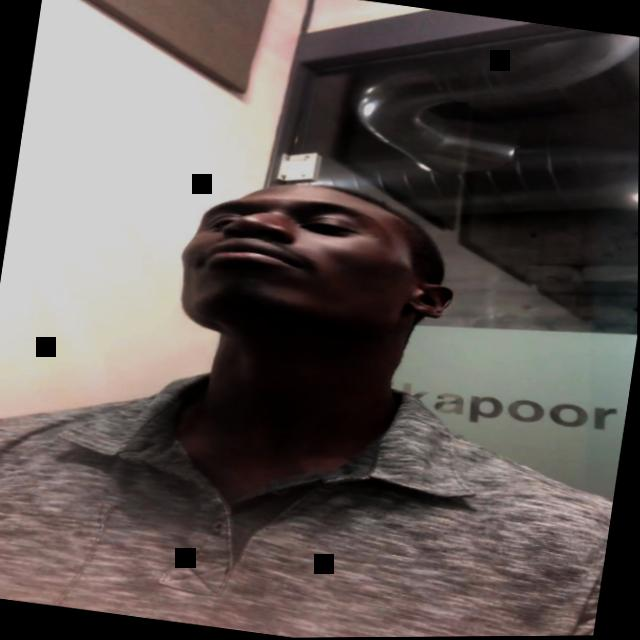NO-Mask: (171, 176, 438, 356)
